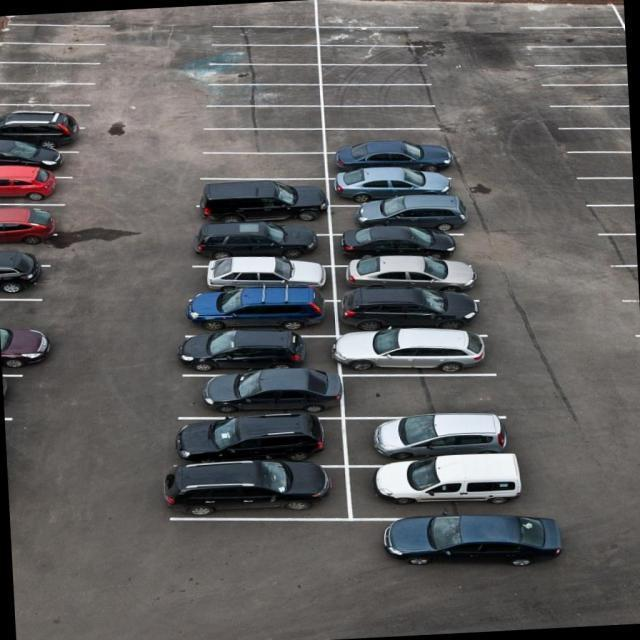space-empty: (337, 370, 514, 417), (197, 145, 329, 185), (196, 123, 321, 159), (195, 173, 327, 206), (0, 72, 91, 115), (205, 79, 327, 110), (324, 102, 455, 130), (324, 79, 446, 109), (513, 0, 622, 33), (201, 102, 326, 130), (211, 60, 321, 90), (327, 121, 453, 147), (7, 20, 102, 53), (214, 21, 317, 51), (218, 43, 323, 70), (1, 55, 84, 89), (322, 42, 432, 66), (216, 1, 319, 26), (533, 41, 627, 68), (525, 27, 626, 52), (8, 39, 91, 69), (321, 22, 419, 47), (320, 1, 413, 26), (321, 63, 421, 86), (8, 11, 102, 35), (0, 100, 76, 129), (547, 61, 628, 87), (550, 84, 629, 110), (566, 132, 632, 157), (583, 151, 633, 181), (569, 105, 630, 129)
space-occupied: (181, 411, 349, 471), (352, 459, 525, 517), (176, 468, 352, 523), (179, 367, 339, 421), (347, 411, 510, 461), (189, 288, 332, 343), (182, 328, 337, 376), (342, 326, 497, 374), (335, 287, 490, 332), (185, 257, 325, 301), (343, 250, 490, 291), (189, 232, 329, 271), (321, 224, 471, 260), (326, 201, 478, 236), (324, 168, 461, 206), (194, 196, 324, 232), (325, 143, 455, 179), (0, 130, 77, 173), (0, 113, 76, 155), (1, 160, 61, 210), (2, 325, 50, 373), (0, 290, 48, 332), (0, 203, 58, 236), (1, 264, 51, 302), (0, 233, 47, 271)
